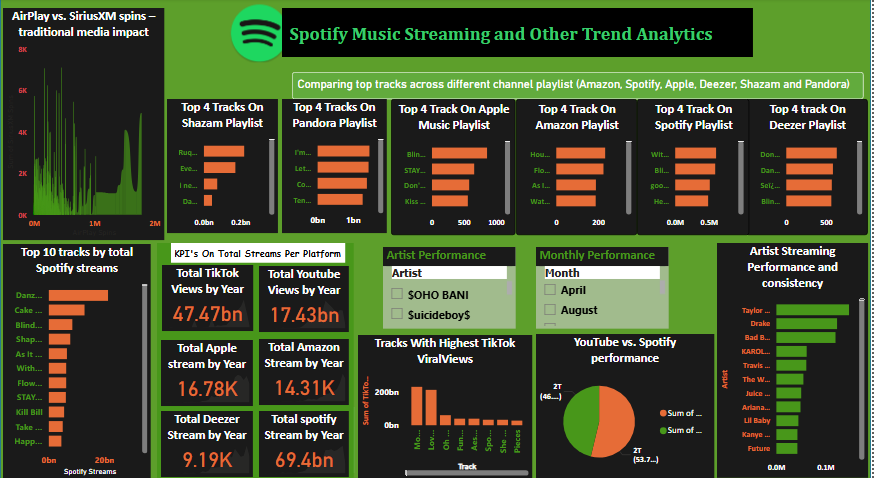

This screenshot's page, from the dashboard's own definition file:
{"tool":"powerbi","page":{"name":"Spotify Music","canvas":[1280,720],"ordinal":2},"visuals":[{"type":"shape","box":[0,0,1279.8,709.7],"z":0},{"type":"clusteredBarChart","title":"\tTop 10 tracks by total Spotify streams","fields":{"Y":["Sum(spotify music streams.Spotify Streams)"],"Category":["spotify music streams.Track"]},"box":[4.4,361.5,217.5,345.3],"z":1000},{"type":"pieChart","title":"YouTube vs. Spotify performance","fields":{"Y":["Sum(spotify music streams.Spotify Streams)","Sum(spotify music streams.YouTube Views)"]},"box":[787.6,493.7,261.6,211.6],"z":2000},{"type":"clusteredColumnChart","title":"\tTracks With Highest TikTok ViralViews","fields":{"Category":["spotify music streams.Track"],"Y":["Sum(spotify music streams.TikTok Views)"]},"box":[526,495.2,255.7,211.6],"z":3000},{"type":"ribbonChart","title":"\tAirPlay vs. SiriusXM spins – traditional media impact","fields":{"Category":["spotify music streams.AirPlay Spins"],"Y":["Sum(spotify music streams.SiriusXM Spins)"]},"box":[4.4,14.7,236.6,340.9],"z":4000},{"type":"image","box":[327.7,1.5,101.4,98.4],"z":5000},{"type":"textbox","box":[414.4,14.7,692.1,72],"z":6000},{"type":"textbox","box":[429.1,108.7,840.5,39.7],"z":7000},{"type":"barChart","title":"Top 4 track On Deezer Playlist ","fields":{"Y":["Sum(spotify music streams.Deezer Playlist Count)"],"Category":["spotify music streams.Track"]},"box":[1096.2,148.4,179.2,199.8],"z":7000,"group":"g1"},{"type":"group","id":"g1","title":"Group 1","box":[574.5,148.4,700.9,199.8],"z":8000},{"type":"barChart","title":"Top 4 Track On Spotify Playlist","fields":{"Category":["spotify music streams.Track"],"Y":["Sum(spotify music streams.Spotify Playlist Count)"]},"box":[935.7,148.4,164.8,199.8],"z":8000,"group":"g1"},{"type":"barChart","title":"Top 4 Track On Apple Music Playlist ","fields":{"Category":["spotify music streams.Track"],"Y":["Sum(spotify music streams.Apple Music Playlist Count)"]},"box":[574.5,148.4,183.5,199.8],"z":9000,"group":"g1"},{"type":"barChart","title":"Artist Streaming Performance and consistency","fields":{"Category":["spotify music streams.Artist"],"Y":["Sum(spotify music streams.All Time Rank)"]},"box":[1058,374.7,221.9,345.3],"z":9000},{"type":"barChart","title":"Top 4 Tracks On Pandora  Playlist","fields":{"Category":["spotify music streams.Track"],"Y":["Sum(spotify music streams.Pandora Streams)"]},"box":[414.4,148.4,154.3,196.9],"z":10000},{"type":"barChart","title":"Top 4 Track On Amazon Playlist","fields":{"Category":["spotify music streams.Track"],"Y":["Sum(spotify music streams.Amazon Playlist Count)"]},"box":[758,148.4,177.7,199.8],"z":10000,"group":"g1"},{"type":"barChart","title":"Top 4 Tracks On Shazam Playlist","fields":{"Category":["spotify music streams.Track"],"Y":["Sum(spotify music streams.Shazam Counts)"]},"box":[245.4,148.4,163.1,196.9],"z":11000},{"type":"slicer","title":" Monthly Performance","fields":{"Values":["spotify music streams.Month"]},"box":[787.6,360,195.4,135.2],"z":12000},{"type":"kpi","title":"Total TikTok Views by Year","fields":{"TrendLine":["spotify music streams.Year"],"Indicator":["Sum(spotify music streams.TikTok Views)"]},"box":[376.2,601,145.5,97],"z":13000},{"type":"shape","box":[230.7,360,289.5,345.3],"z":14000},{"type":"kpi","title":"Total Youtube Views by Year","fields":{"TrendLine":["spotify music streams.Year"],"Indicator":["Sum(spotify music streams.YouTube Views)"]},"box":[380.6,393.8,132.2,97],"z":15000},{"type":"kpi","title":"Total Amazon Stream by Year","fields":{"TrendLine":["spotify music streams.Year"],"Indicator":["Sum(spotify music streams.Amazon Playlist Count)"]},"box":[380.6,501.1,132.2,97],"z":16000},{"type":"kpi","title":"Total Apple stream by Year","fields":{"TrendLine":["spotify music streams.Year"],"Indicator":["Sum(spotify music streams.Apple Music Playlist Count)"]},"box":[236.6,502.5,135.2,97],"z":17000},{"type":"kpi","title":"Total TikTok Views by Year","fields":{"TrendLine":["spotify music streams.Year"],"Indicator":["Sum(spotify music streams.TikTok Views)"]},"box":[238,392.3,133.7,97],"z":18000},{"type":"kpi","title":"Total Deezer Stream by Year","fields":{"TrendLine":["spotify music streams.Year"],"Indicator":["Sum(spotify music streams.Deezer Playlist Count)"]},"box":[236.6,606.9,135.2,97],"z":19000},{"type":"kpi","title":"Total spotify Stream by Year","fields":{"TrendLine":["spotify music streams.Year"],"Indicator":["Sum(spotify music streams.Spotify Streams)"]},"box":[380.6,606.9,132.2,97],"z":20000},{"type":"slicer","title":"Artist Performance","fields":{"Values":["spotify music streams.Artist"]},"box":[562.8,360,195.4,130.8],"z":21000},{"type":"textbox","box":[251.3,360,255.7,29.4],"z":21001}]}

Visuals, with their boxes in screenshot pixels (x1, y1, x2, y2), scaled from the page's 1280x720 canvas onto the 874x478 screenshot:
shape: box(0, 0, 873, 471)
"	Top 10 tracks by total Spotify streams" clusteredBarChart: box(3, 240, 152, 469)
"YouTube vs. Spotify performance" pieChart: box(538, 328, 716, 468)
"	Tracks With Highest TikTok ViralViews" clusteredColumnChart: box(359, 329, 534, 469)
"	AirPlay vs. SiriusXM spins – traditional media impact" ribbonChart: box(3, 10, 165, 236)
image: box(224, 1, 293, 66)
textbox: box(283, 10, 756, 58)
textbox: box(293, 72, 867, 99)
"Top 4 track On Deezer Playlist " barChart: box(748, 99, 871, 231)
"Group 1" group: box(392, 99, 871, 231)
"Top 4 Track On Spotify Playlist" barChart: box(639, 99, 751, 231)
"Top 4 Track On Apple Music Playlist " barChart: box(392, 99, 518, 231)
"Artist Streaming Performance and consistency" barChart: box(722, 249, 873, 477)
"Top 4 Tracks On Pandora  Playlist" barChart: box(283, 99, 388, 229)
"Top 4 Track On Amazon Playlist" barChart: box(518, 99, 639, 231)
"Top 4 Tracks On Shazam Playlist" barChart: box(168, 99, 279, 229)
" Monthly Performance" slicer: box(538, 239, 671, 329)
"Total TikTok Views by Year" kpi: box(257, 399, 356, 463)
shape: box(158, 239, 355, 468)
"Total Youtube Views by Year" kpi: box(260, 261, 350, 326)
"Total Amazon Stream by Year" kpi: box(260, 333, 350, 397)
"Total Apple stream by Year" kpi: box(162, 334, 254, 398)
"Total TikTok Views by Year" kpi: box(163, 260, 254, 325)
"Total Deezer Stream by Year" kpi: box(162, 403, 254, 467)
"Total spotify Stream by Year" kpi: box(260, 403, 350, 467)
"Artist Performance" slicer: box(384, 239, 518, 326)
textbox: box(172, 239, 346, 259)
